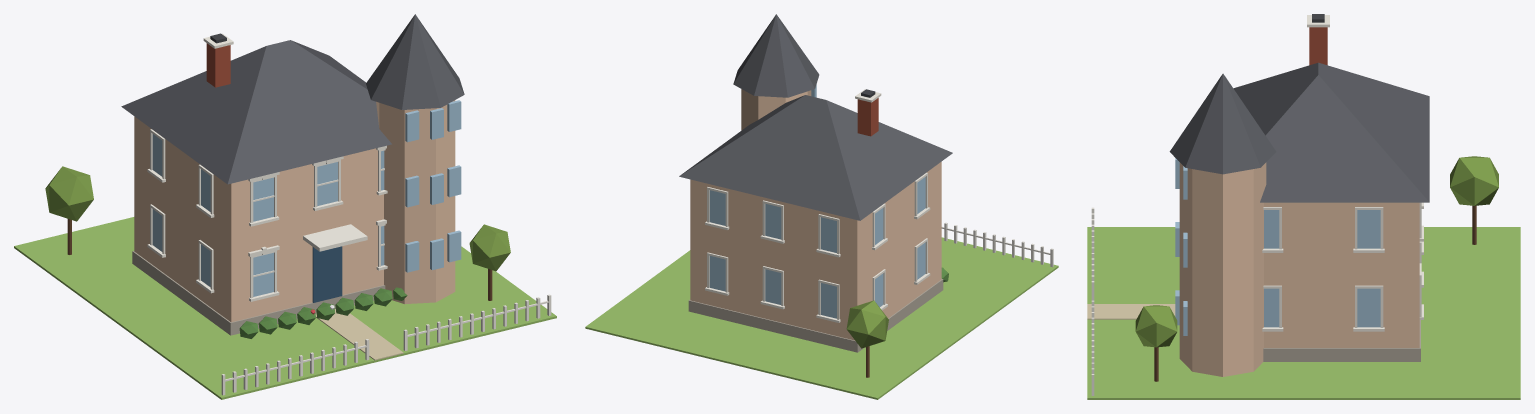
File: Konut_villa_1_Hafif.fbx
3 views of the same model, side by side, from view 1: azimuth 30°, elevation 25°; view 2: azimuth 150°, elevation 25°; view 3: azimuth 270°, elevation 25° (orthographic). The views are drawn at different scales.
Parts seen in each view (by area): view 1: Konut_villa_1_Hafif; view 2: Konut_villa_1_Hafif; view 3: Konut_villa_1_Hafif.
Boxes of the visible parts, box(x1,y1,x2,y2) form: Konut_villa_1_Hafif: box(14, 14, 556, 399); Konut_villa_1_Hafif: box(585, 14, 1058, 399); Konut_villa_1_Hafif: box(1087, 14, 1520, 399).
Bounding box in the file's own units: 14 × 10.98 × 15.
